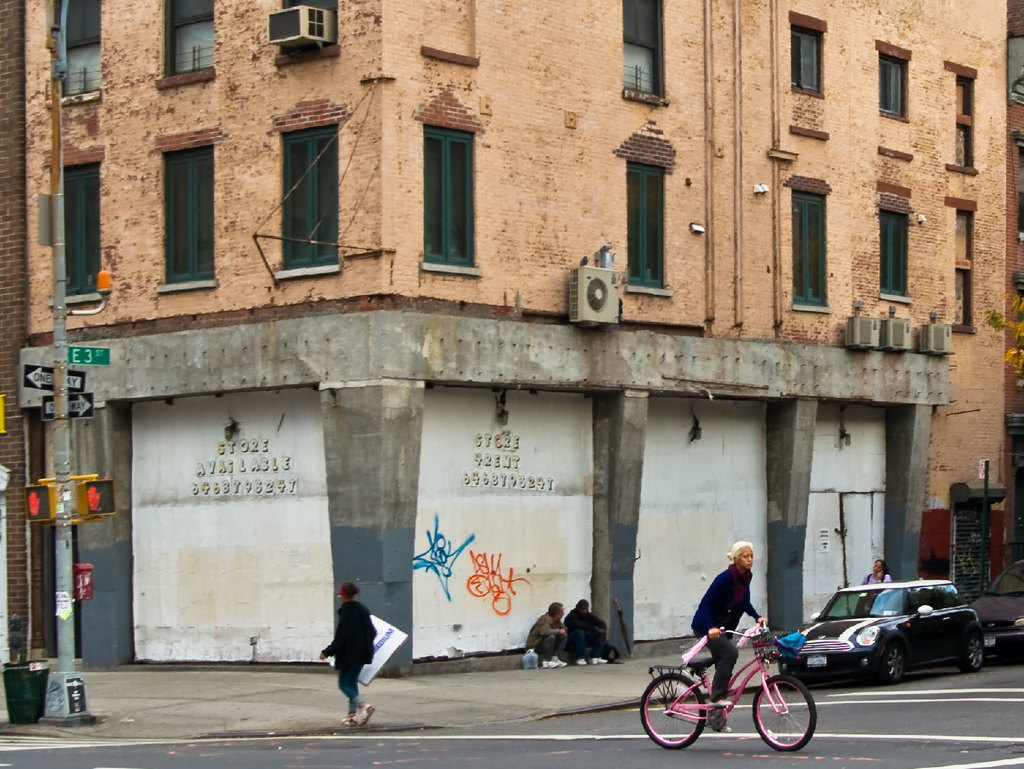Bike: (640, 624, 818, 749)
